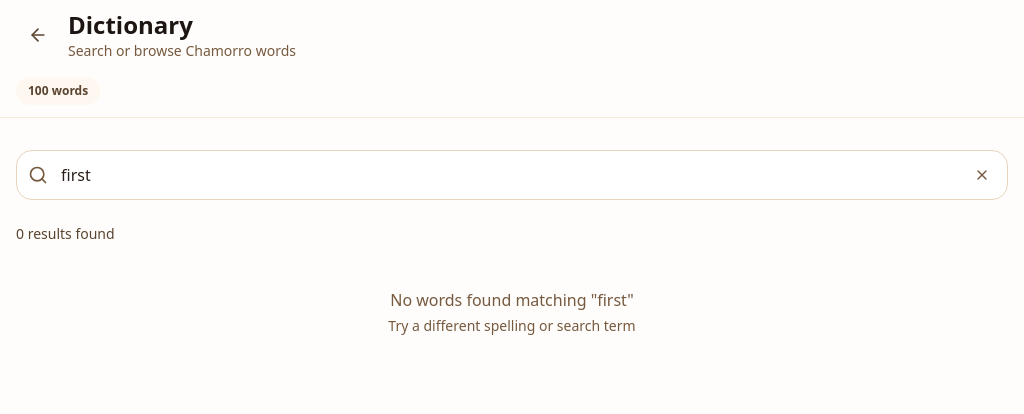
Test: distinguishes pending, failed and successful empty searches (prior results: false)
Expected: the heading "0 results found" is shown, [16,224,115,243]
Replace the text in the field with "next" at (512, 175), box [16,150,1008,200]
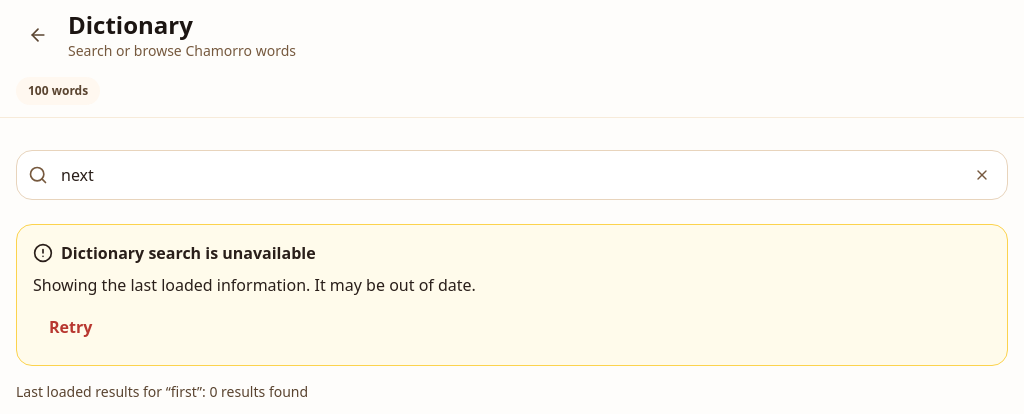
Expected: the message shows "Dictionary search is unavailable", [61,242,316,264]
Expected: the text "No words found" is gone
Click the button "Retry" at (71, 327), box [33,305,108,349]
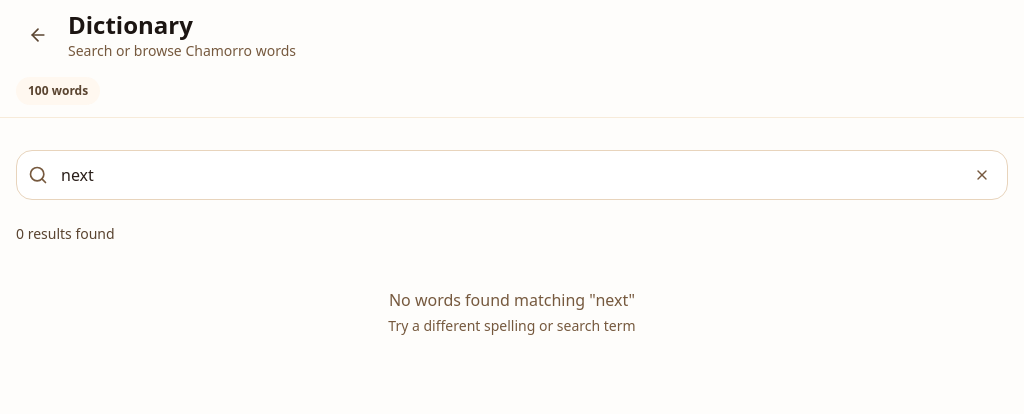
Expected: the text "No words found matching \"next\"" is shown, [389,289,635,311]
Expected: the message "Dictionary search is unavailable Showing the last loaded information. It may be" is gone
